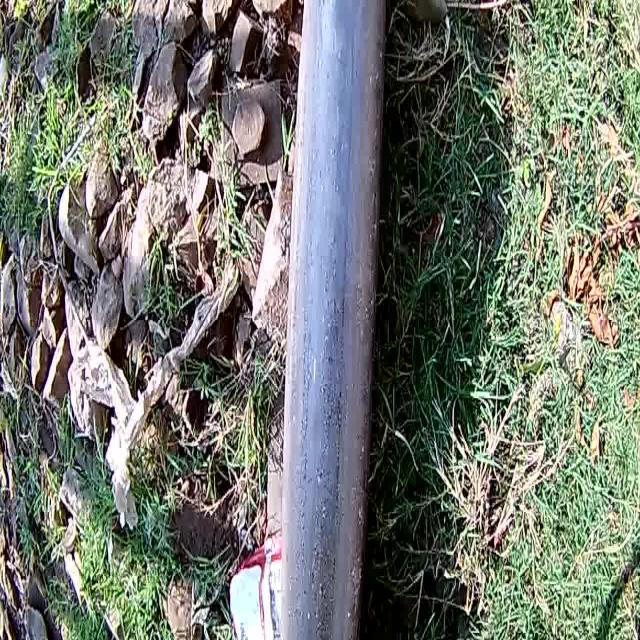Squats: (269, 498, 383, 640)
